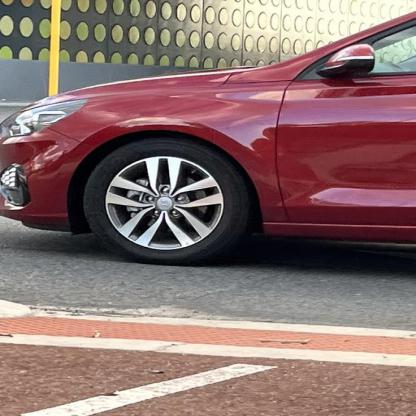Tire: (81, 136, 251, 267)
